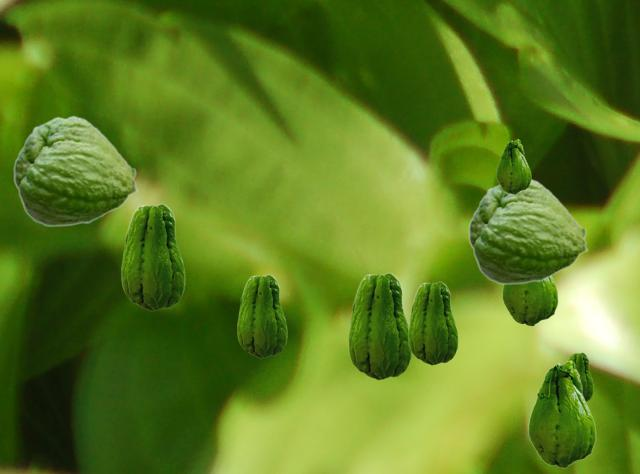sayote: (13, 115, 138, 226), (468, 178, 588, 284), (528, 360, 595, 467), (121, 203, 184, 310), (348, 272, 411, 379), (237, 274, 286, 357), (408, 281, 457, 364), (502, 276, 557, 325), (496, 139, 530, 193), (567, 352, 592, 401)
